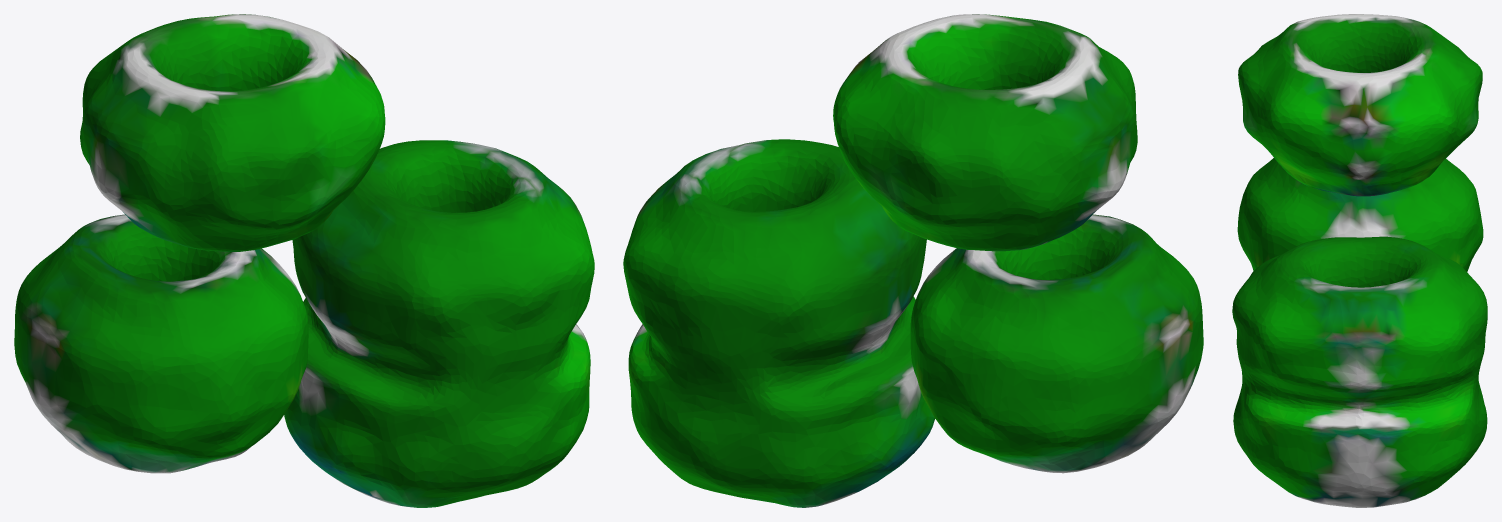
File: emerald.glb
3 views of the same model, side by side, from view 1: azimuth 30°, elevation 25°; view 2: azimuth 150°, elevation 25°; view 3: azimuth 270°, elevation 25° (orthographic). The views are drawn at different scales.
Visible parts, largest first — view 1: geometry_0; view 2: geometry_0; view 3: geometry_0.
Boxes of the visible parts, x1=… form: geometry_0: x1=14, y1=14, x2=594, y2=507; geometry_0: x1=623, y1=14, x2=1203, y2=507; geometry_0: x1=1232, y1=14, x2=1487, y2=507.
Bounding box in the file's own units: 0.8125 × 0.6812 × 0.4442.
